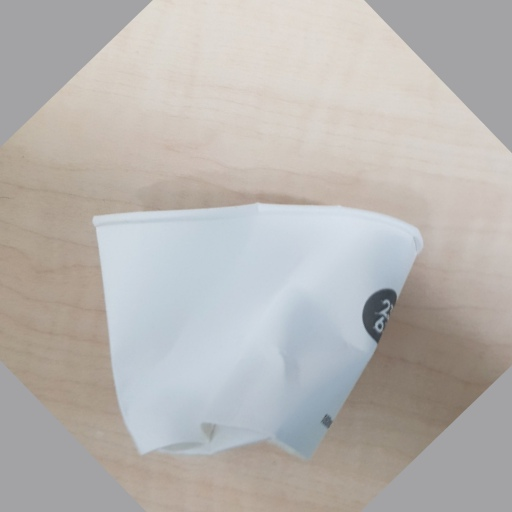Paper_1: (89, 202, 424, 459)
